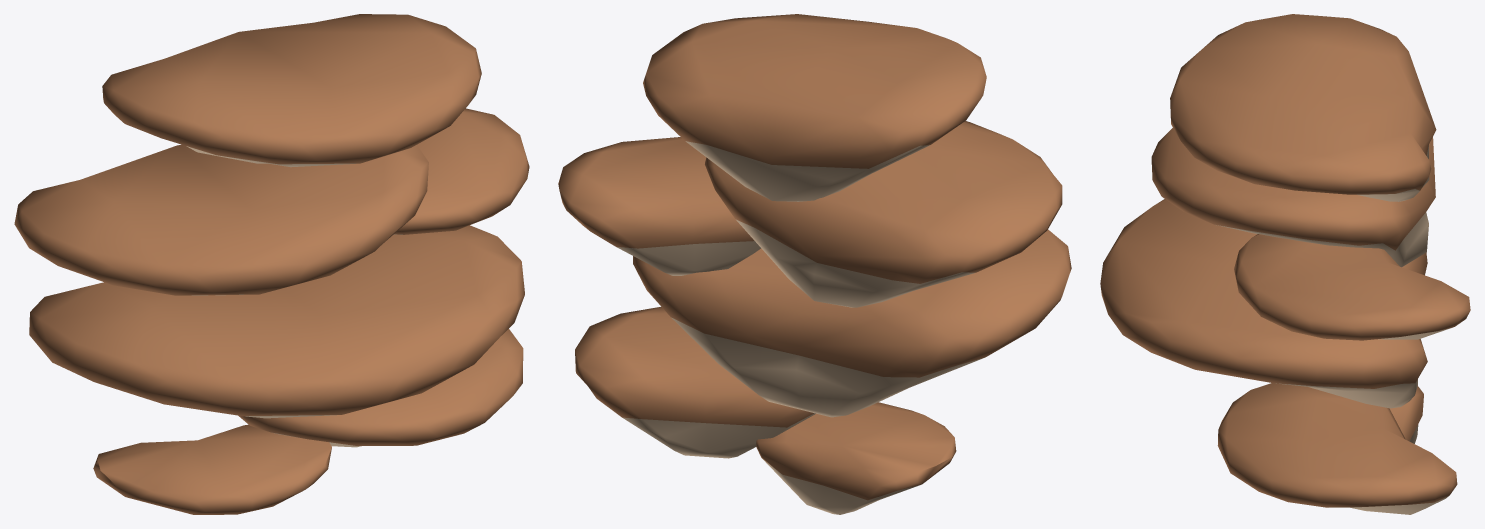
The model's file is Mushoom_04.fbx.
3 views of the same model, side by side, from view 1: azimuth 30°, elevation 25°; view 2: azimuth 150°, elevation 25°; view 3: azimuth 270°, elevation 25° (orthographic). The views are drawn at different scales.
Parts seen in each view (by area): view 1: Mushoom_04_LOD0; view 2: Mushoom_04_LOD0; view 3: Mushoom_04_LOD0.
Boxes of the visible parts, x1,y1,x2,y2 form: Mushoom_04_LOD0: (14,14,529,514); Mushoom_04_LOD0: (558,14,1071,514); Mushoom_04_LOD0: (1100,14,1470,514).
Size of what is drawn, in the model's own units: 0.2237 by 0.198 by 0.1592.
